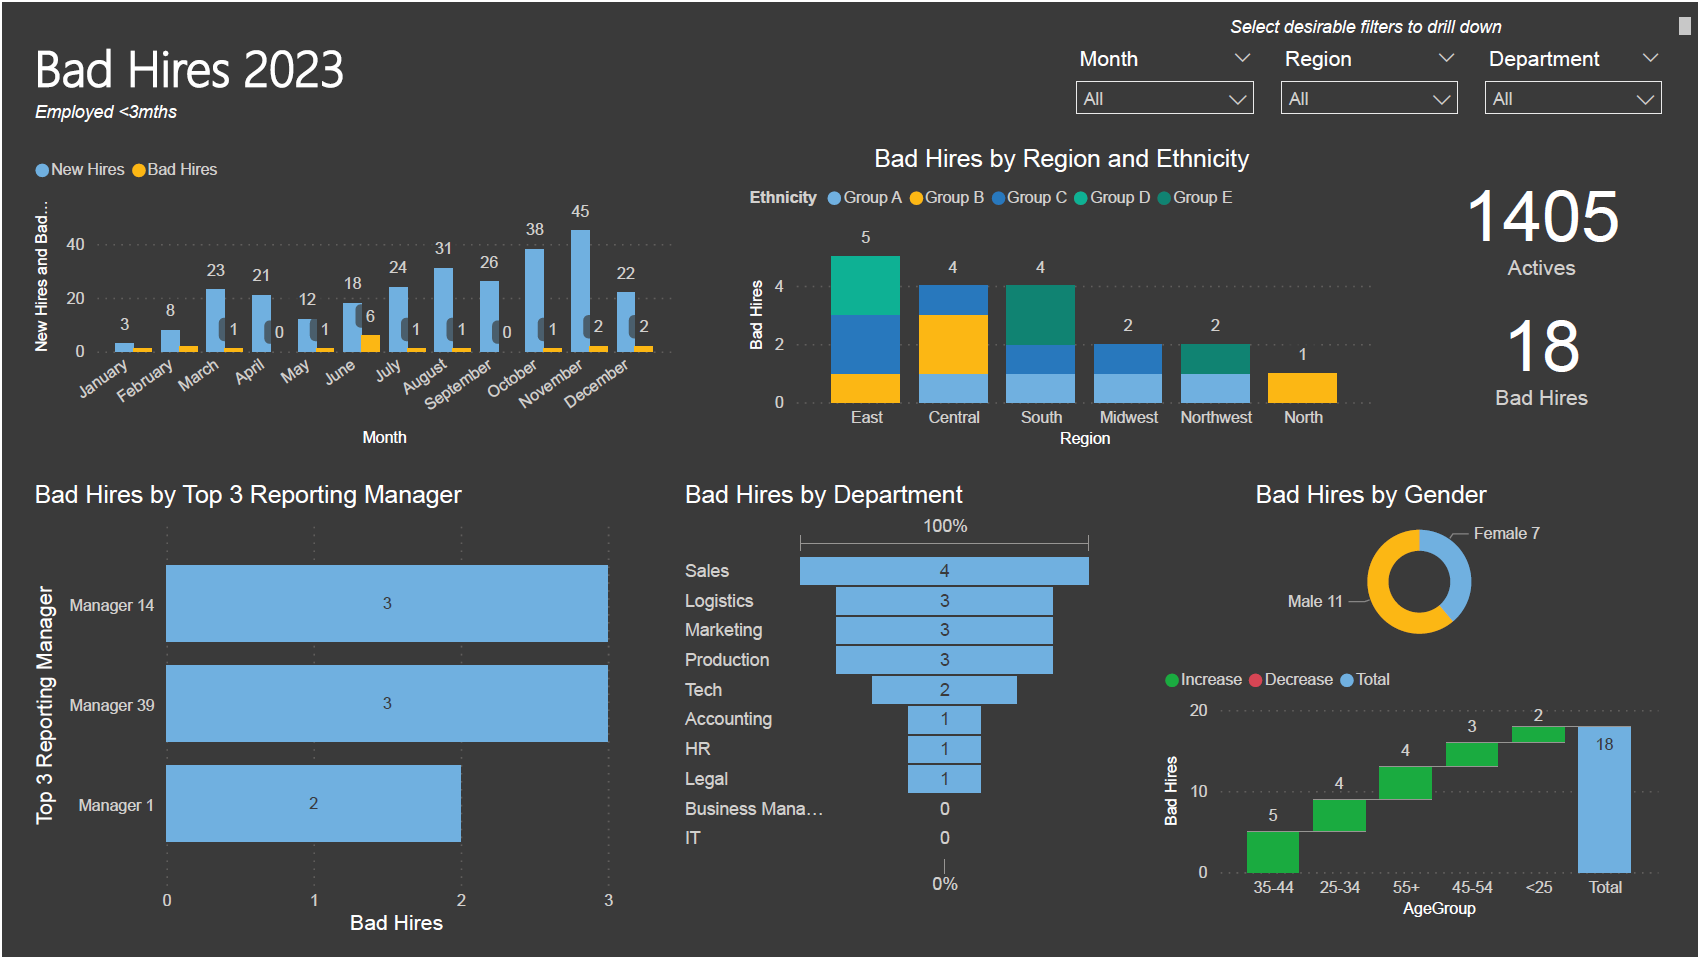

Layout of this report page (visuals, bound fields, positions):
{"tool":"powerbi","page":{"name":"Bad Hires","canvas":[1280,720],"ordinal":1},"visuals":[{"type":"textbox","box":[19.5,18.2,416.3,62.2],"z":0},{"type":"lineClusteredColumnComboChart","fields":{"Y":["Reports.New Hires Sum","Sum(Reports.Bad Hires 2023)"],"Category":["Calendar.Date.Variation.Date Hierarchy.Month"]},"box":[18.7,107,491.4,232.7],"z":1000},{"type":"clusteredBarChart","fields":{"Category":["Unqiue Managers.Reporting to"],"Y":["Sum(Reports.Bad Hires 2023)"]},"box":[18.7,360.5,461.3,347],"z":2000},{"type":"waterfallChart","fields":{"Category":["Age Groups.AgeGroup"],"Y":["Sum(Reports.Bad Hires 2023)"]},"box":[871.7,492.5,383.4,202.6],"z":3000},{"type":"lineStackedColumnComboChart","fields":{"Category":["Reports.Region"],"Series":["Unqiue Ethnicity.Ethnicity"],"Y":["Sum(Reports.Bad Hires 2023)"]},"box":[559,107,481,232.7],"z":4000},{"type":"textbox","box":[787.5,6.5,491.5,22],"z":5000},{"type":"donutChart","fields":{"Series":["Reports.Gender"],"Y":["Sum(Reports.Bad Hires 2023)"]},"box":[941.3,360.5,256.6,131.9],"z":6000},{"type":"slicer","fields":{"Values":["Calendar.Date.Variation.Date Hierarchy.Month"]},"box":[800.5,28.5,154.3,71.3],"z":7000},{"type":"slicer","fields":{"Values":["Unqiue Regions.Region"]},"box":[954.8,28.5,154.3,71.3],"z":8000},{"type":"slicer","fields":{"Values":["Unqiue Departments.Department"]},"box":[1109.1,28.5,154.3,71.3],"z":9000},{"type":"card","fields":{"Values":["Sum(Reports.Bad Hires 2023)"]},"box":[1063.4,215.3,197.1,98.6],"z":10000},{"type":"funnel","fields":{"Category":["Unqiue Departments.Department"],"Y":["Sum(Reports.Bad Hires 2023)"]},"box":[510.1,360.5,320,317.9],"z":11000},{"type":"card","fields":{"Values":["Reports.Actives"]},"box":[1063.4,116.7,197.1,98.6],"z":12000},{"type":"textbox","box":[19.5,70,491.5,29.8],"z":13000}]}

Visuals, with their boxes in screenshot pixels (x1, y1, x2, y2), scaled from the page's 1280x720 canvas onto the 1698x957 screenshot:
textbox: box=[26, 24, 578, 107]
lineClusteredColumnComboChart - Reports.New Hires Sum x Sum(Reports.Bad Hires 2023): box=[25, 142, 677, 452]
clusteredBarChart - Unqiue Managers.Reporting to x Sum(Reports.Bad Hires 2023): box=[25, 479, 637, 940]
waterfallChart - Age Groups.AgeGroup x Sum(Reports.Bad Hires 2023): box=[1156, 655, 1665, 924]
lineStackedColumnComboChart - Reports.Region x Unqiue Ethnicity.Ethnicity: box=[742, 142, 1380, 452]
textbox: box=[1045, 9, 1697, 38]
donutChart - Reports.Gender x Sum(Reports.Bad Hires 2023): box=[1249, 479, 1589, 654]
slicer - Calendar.Date.Variation.Date Hierarchy.Month: box=[1062, 38, 1267, 133]
slicer - Unqiue Regions.Region: box=[1267, 38, 1471, 133]
slicer - Unqiue Departments.Department: box=[1471, 38, 1676, 133]
card - Sum(Reports.Bad Hires 2023): box=[1411, 286, 1672, 417]
funnel - Unqiue Departments.Department x Sum(Reports.Bad Hires 2023): box=[677, 479, 1101, 902]
card - Reports.Actives: box=[1411, 155, 1672, 286]
textbox: box=[26, 93, 678, 133]
